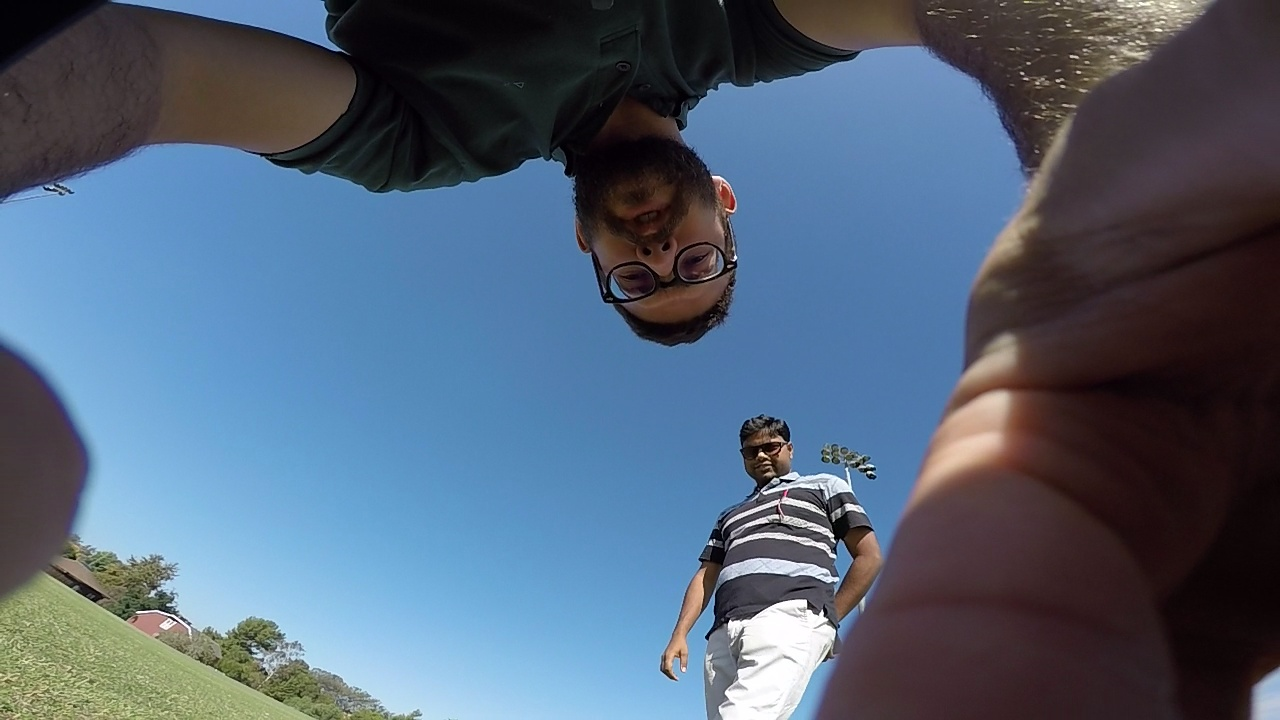person: (153, 20, 1232, 527), (481, 16, 1255, 714), (23, 21, 811, 503), (783, 0, 1270, 708), (33, 10, 1082, 318), (658, 416, 879, 711)
